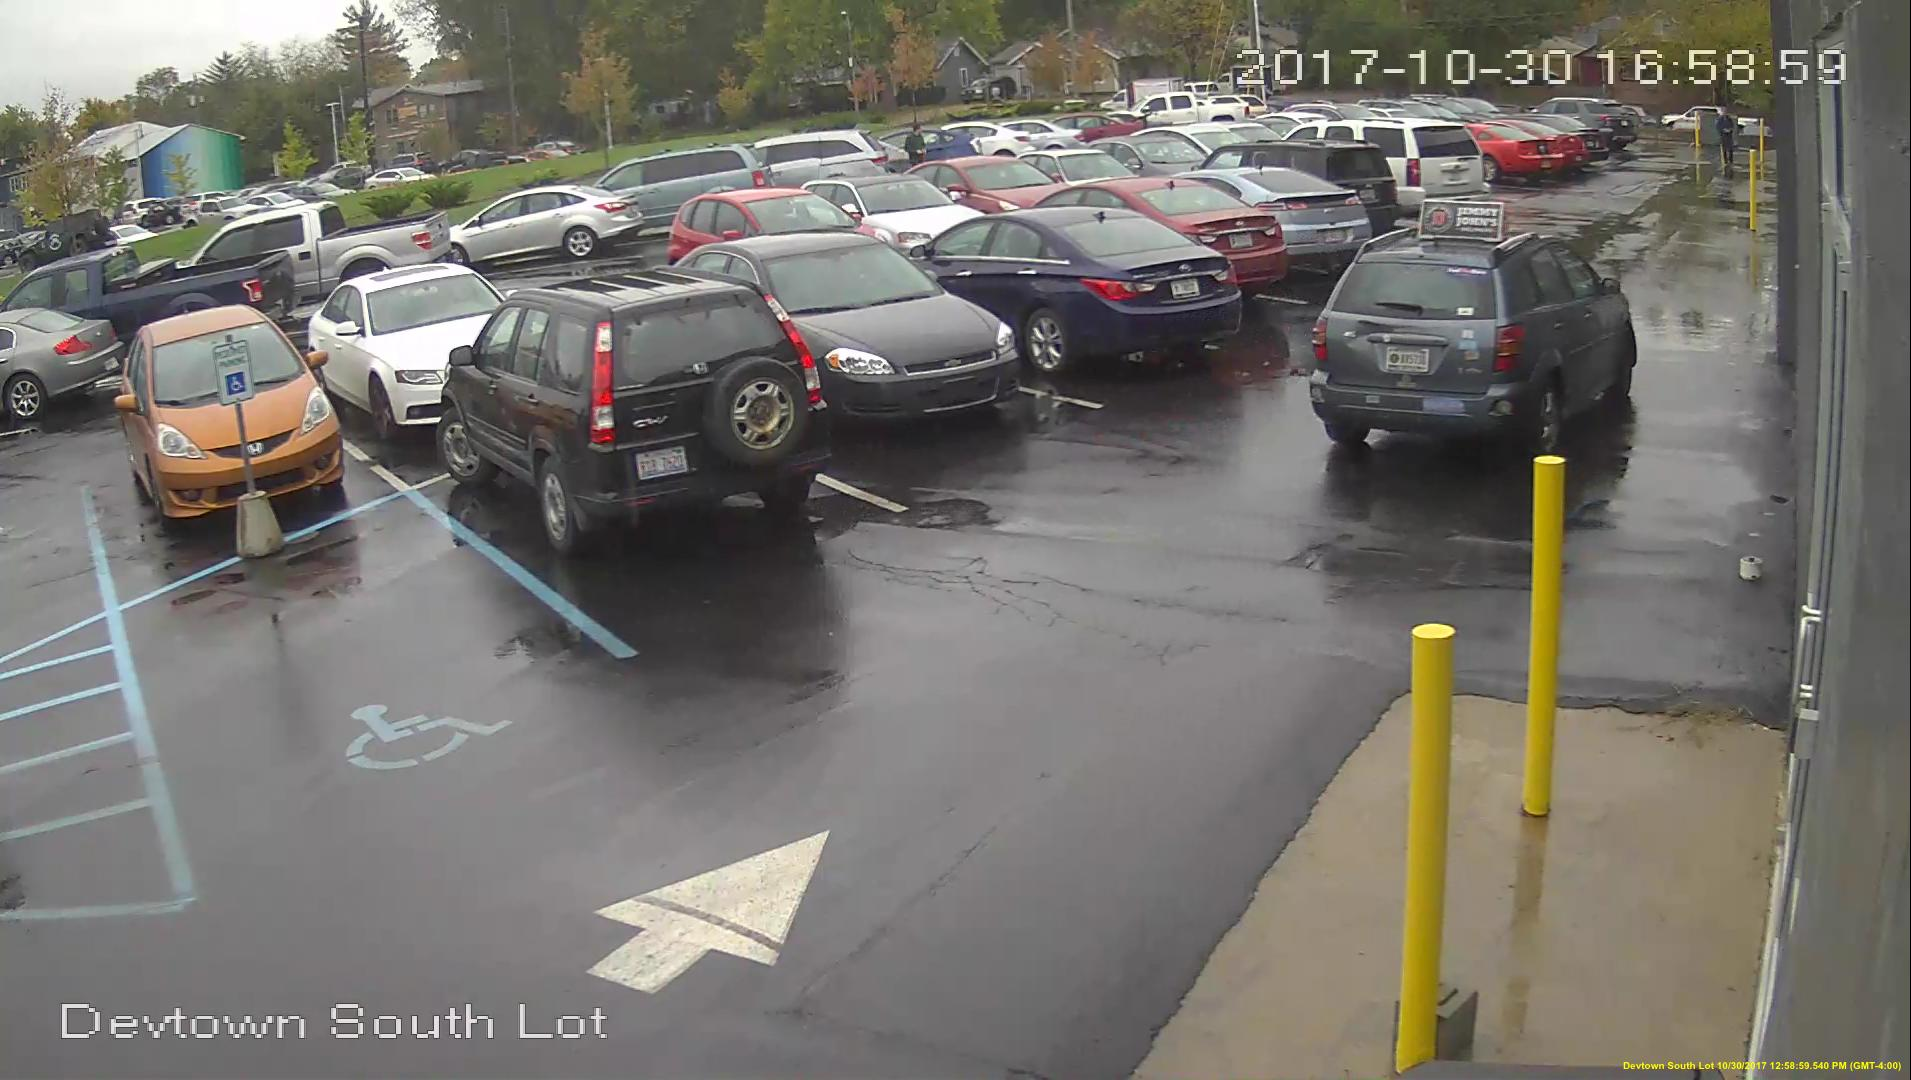jimmy_johns: (1415, 196, 1511, 247)
